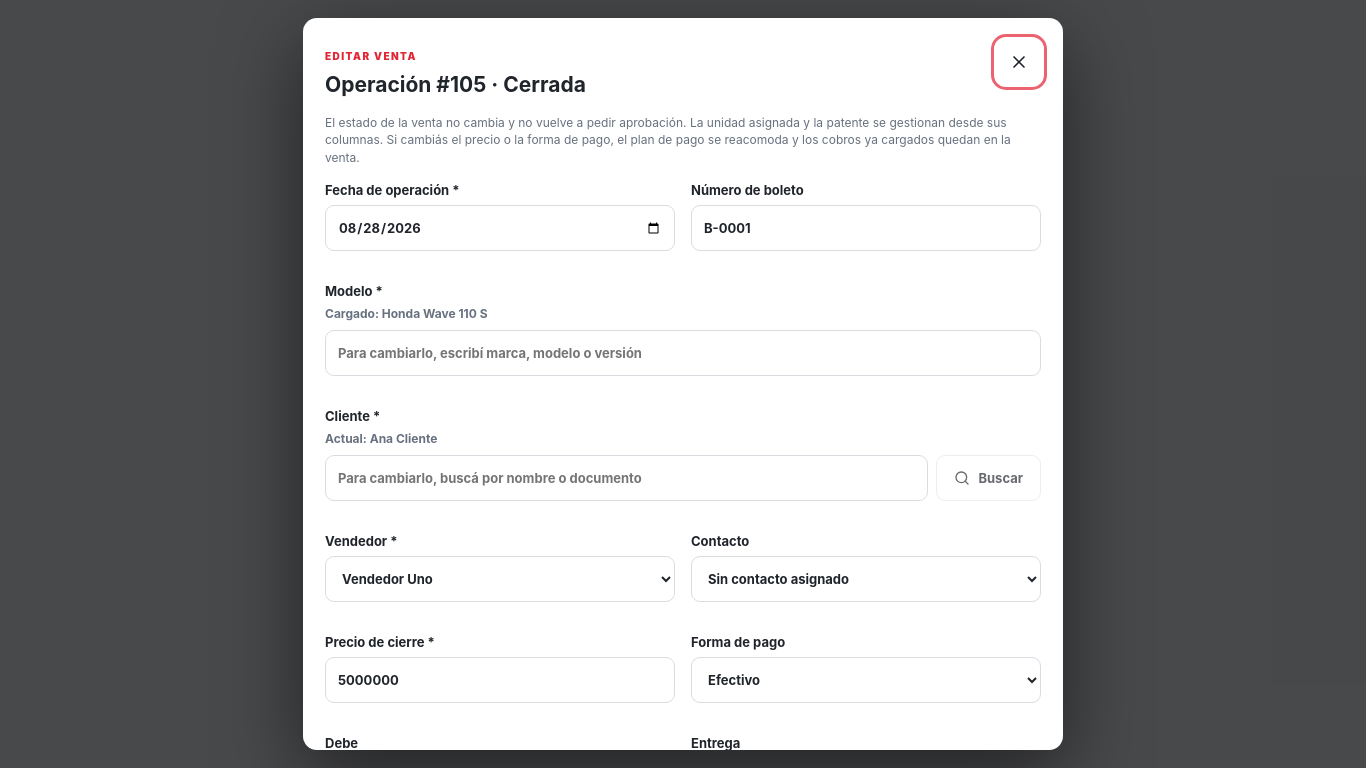
Scenario: Editar una venta ya cargada › no ofrece el modelo cargado y permite volver atrás
Type "wave" into the field with placeholder "Para cambiarlo, escribí marca, modelo o versión" at (683, 353), box [325,330,1041,376]
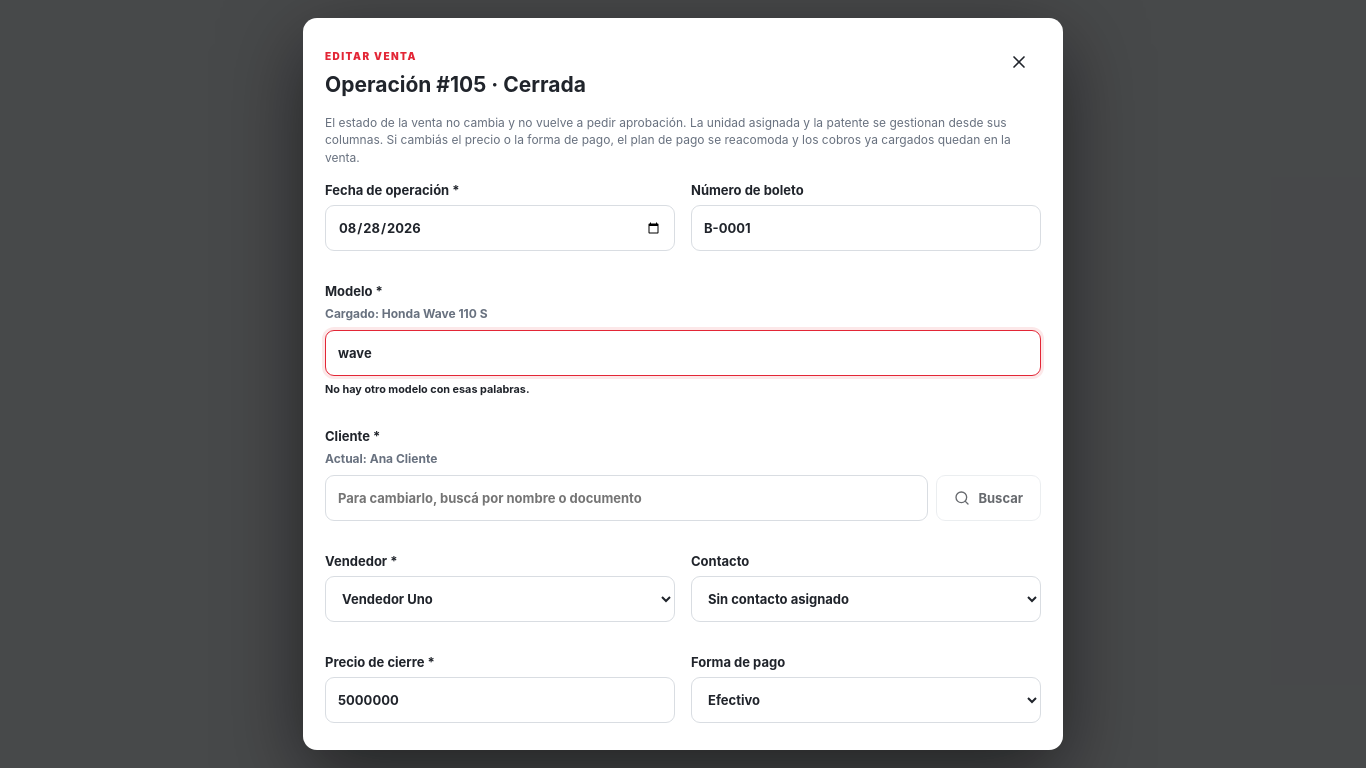
Result: the text "No hay otro modelo con esas palabras." is shown at [325,383,530,396]
Replace the text in the field with placeholder "Para cambiarlo, escribí marca, modelo o versión" with "biz" at (683, 353), box [325,330,1041,376]
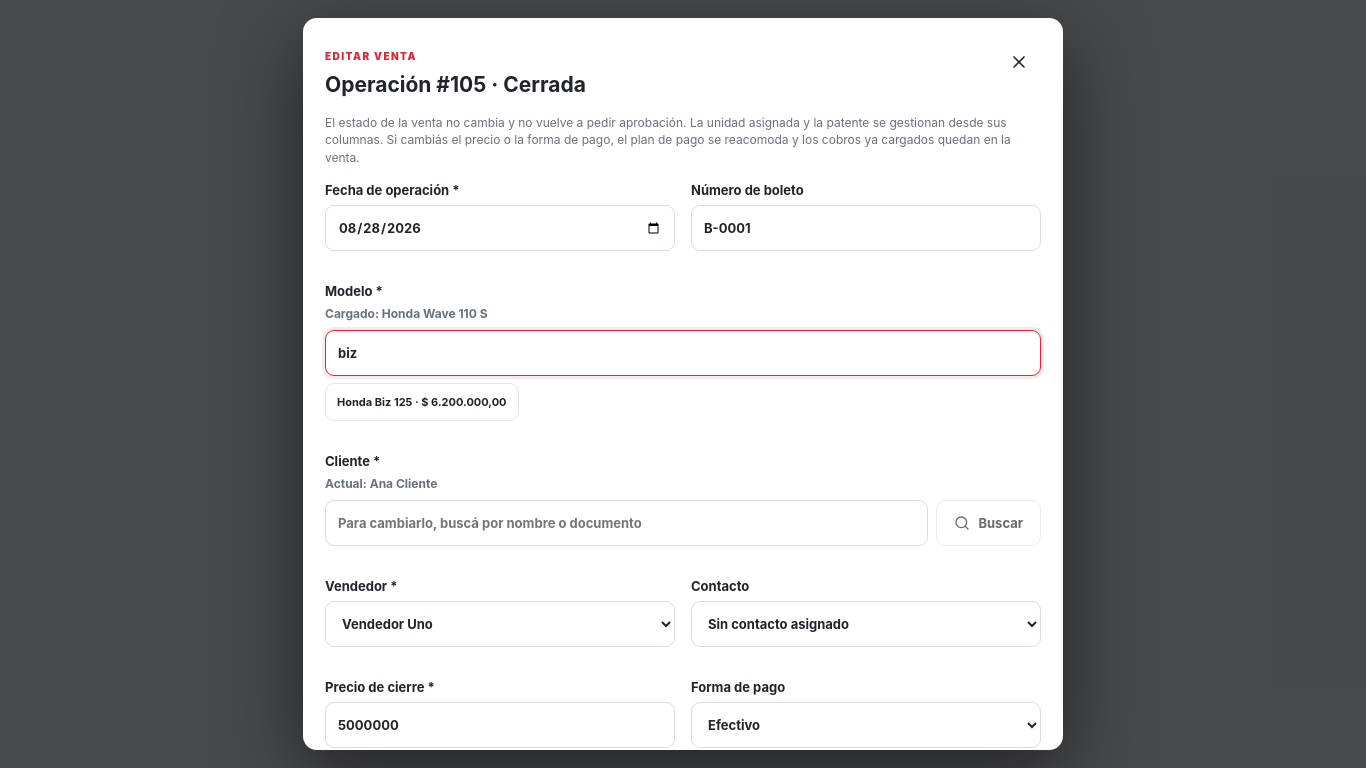
Click the button "Honda Biz 125 · $ 6.200.000,00" at (422, 402), box [325,383,518,421]
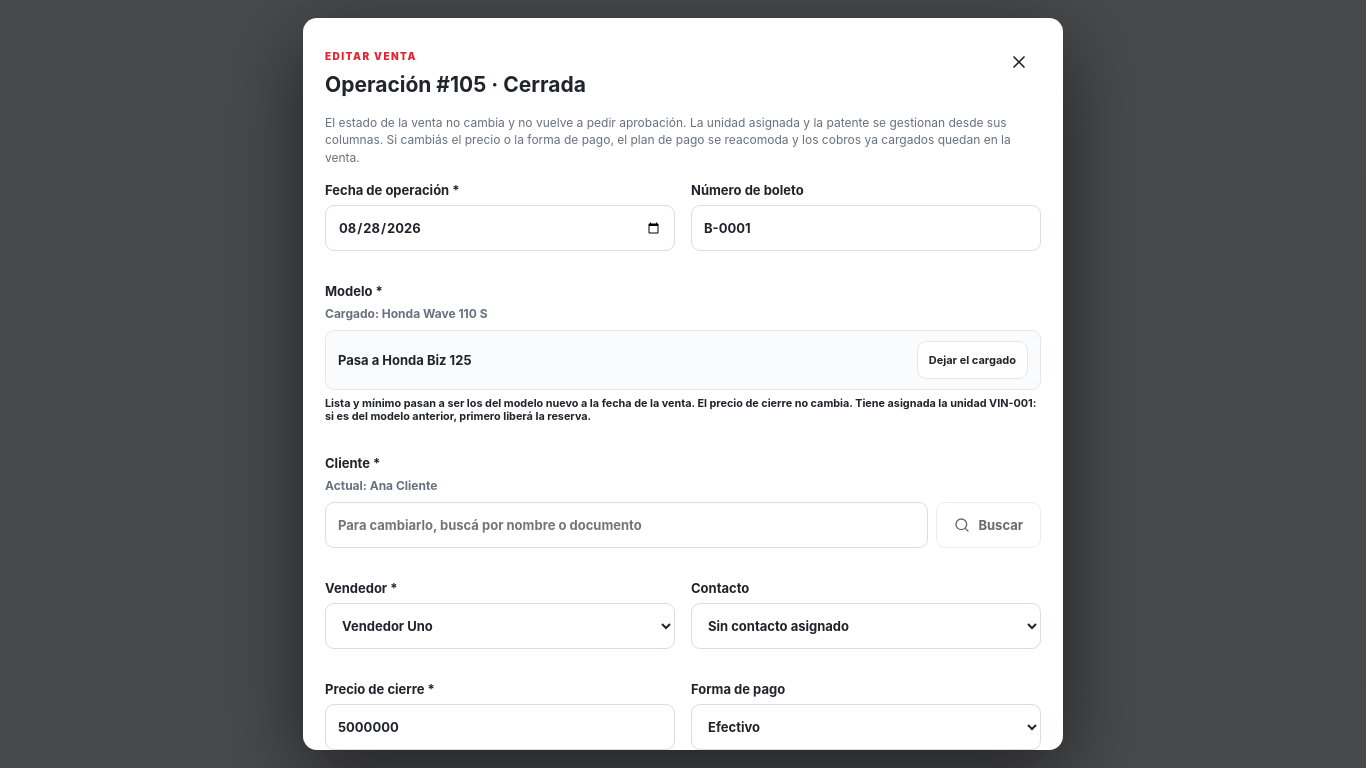
Click the button "Dejar el cargado" at (972, 360), box [917,341,1028,379]
(page scrolled)
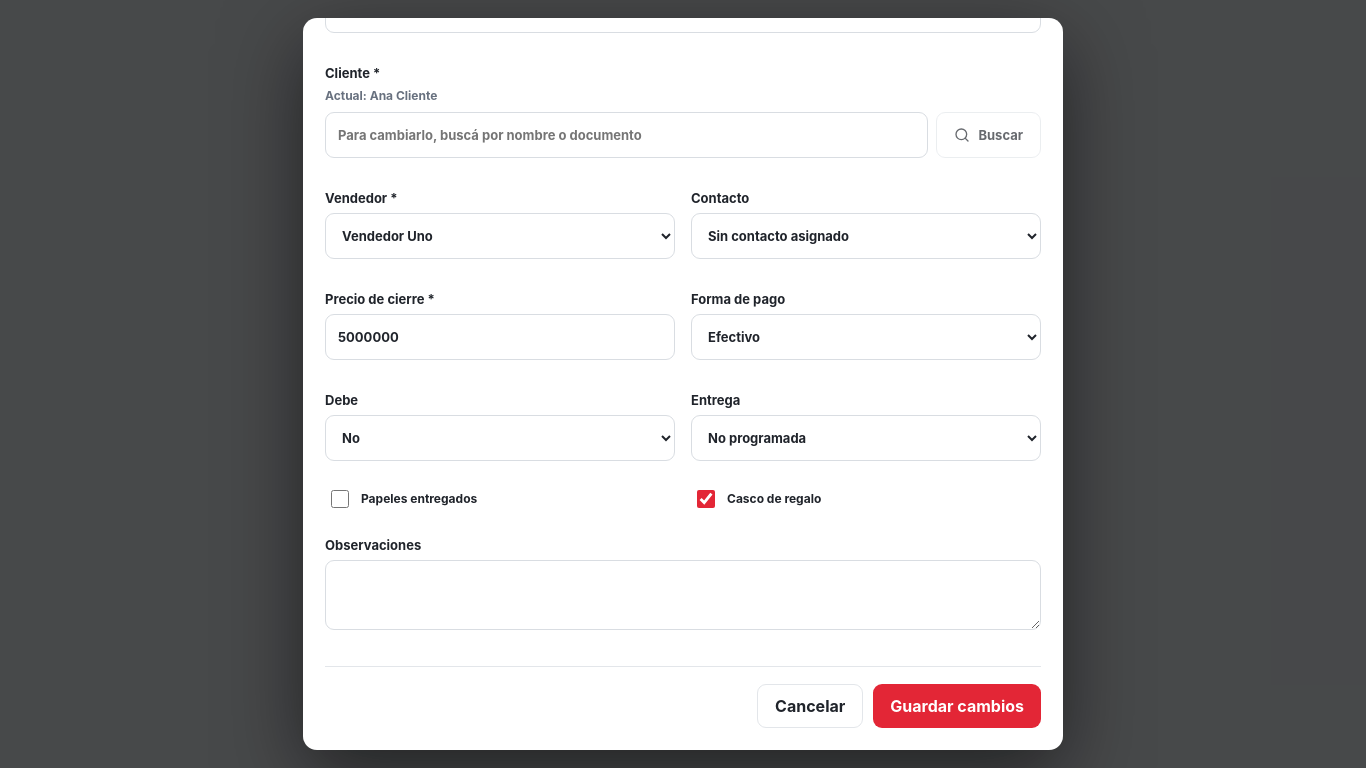
Click the button "Guardar cambios" at (957, 706), box [873,684,1041,728]
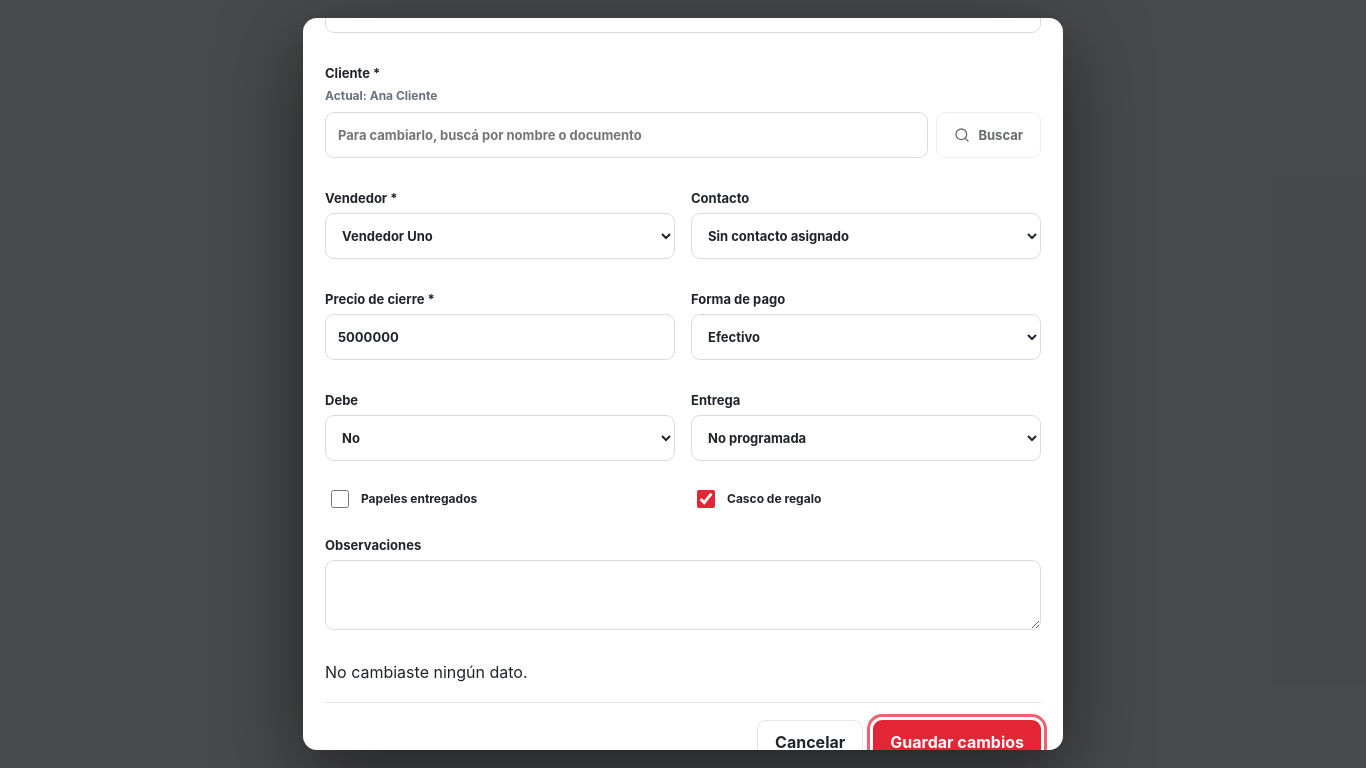
Result: the message reads "No cambiaste ningún dato." at [325,662,528,682]
